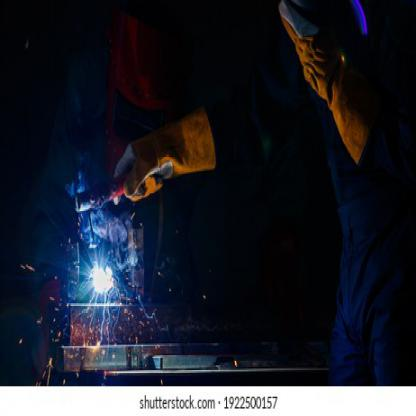with_gloves: (114, 108, 218, 209), (304, 43, 370, 162)
